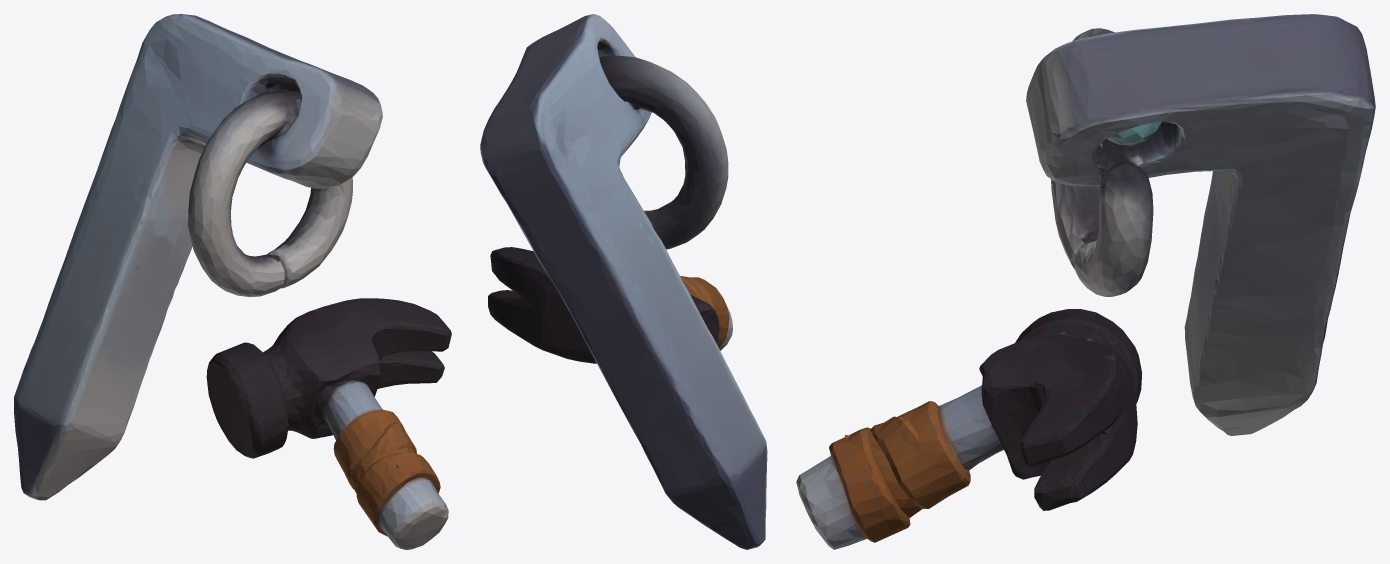
The model's file is piton.glb.
The picture shows the model from 3 angles, left to right: view 1: azimuth 30°, elevation 25°; view 2: azimuth 150°, elevation 25°; view 3: azimuth 270°, elevation 25°; orthographic projection. The views are drawn at different scales.
Visible parts, largest first — view 1: tmpoaqlt3sg.ply; view 2: tmpoaqlt3sg.ply; view 3: tmpoaqlt3sg.ply.
Part boxes in pixels (x1,y1,x2,y2): tmpoaqlt3sg.ply: [14, 14, 451, 549]; tmpoaqlt3sg.ply: [480, 14, 767, 549]; tmpoaqlt3sg.ply: [796, 14, 1375, 549].
Bounding box in the file's own units: 1.69 × 1.99 × 1.97.
Materials: 1 (1 with a texture image).
